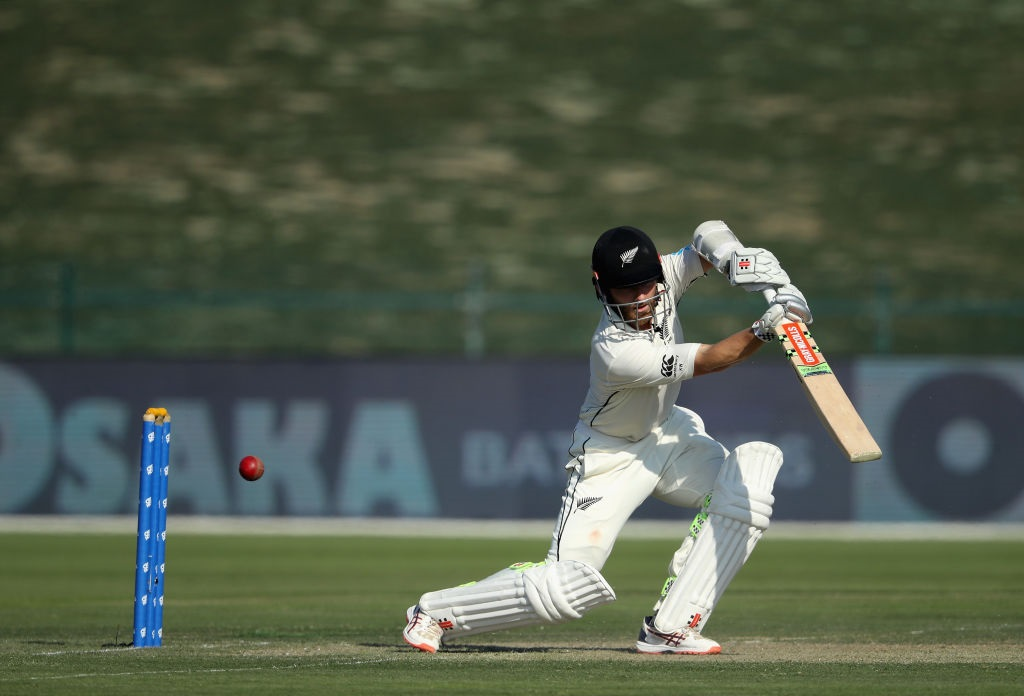Defence: (92, 10, 950, 696)
